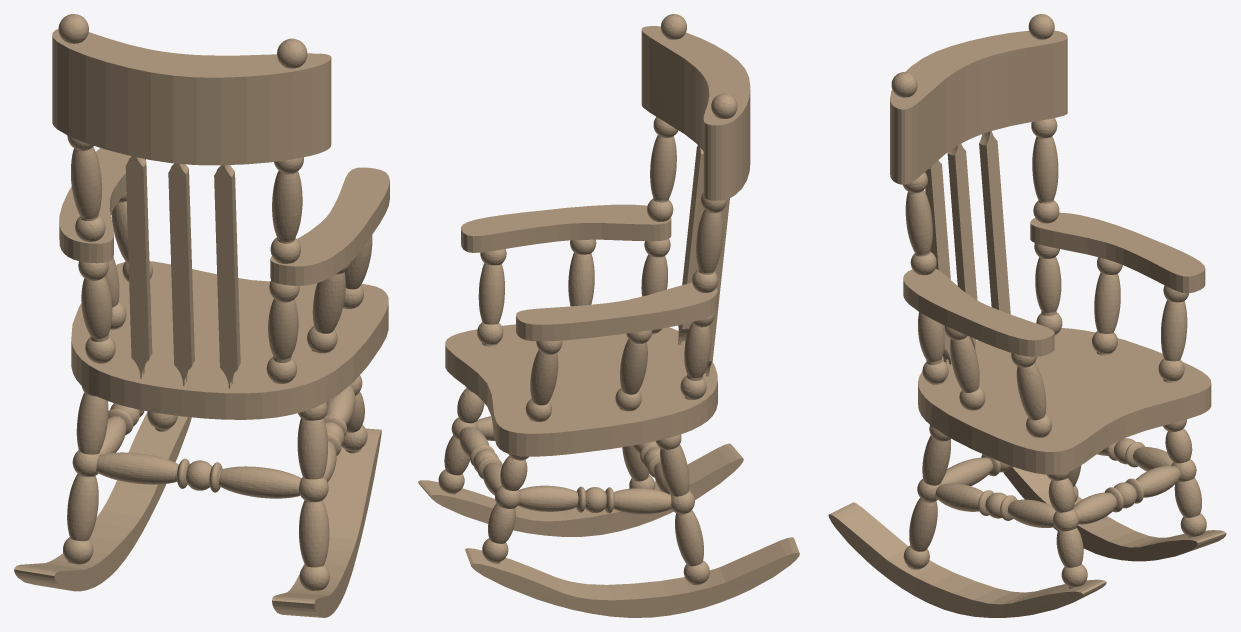
The model's file is rocking_chair_1.glb.
The picture shows the model from 3 angles, left to right: view 1: azimuth 30°, elevation 25°; view 2: azimuth 150°, elevation 25°; view 3: azimuth 270°, elevation 25°; orthographic projection. The views are drawn at different scales.
Parts seen in each view (by area): view 1: Mesh_Mesh_head_geo.001_lambert2SG.001; view 2: Mesh_Mesh_head_geo.001_lambert2SG.001; view 3: Mesh_Mesh_head_geo.001_lambert2SG.001.
Part boxes in pixels (x1=…): Mesh_Mesh_head_geo.001_lambert2SG.001: x1=14, y1=14, x2=389, y2=617; Mesh_Mesh_head_geo.001_lambert2SG.001: x1=418, y1=14, x2=799, y2=617; Mesh_Mesh_head_geo.001_lambert2SG.001: x1=828, y1=14, x2=1226, y2=617.
Size of the model in its own units: 3.62 by 5.02 by 3.59.
